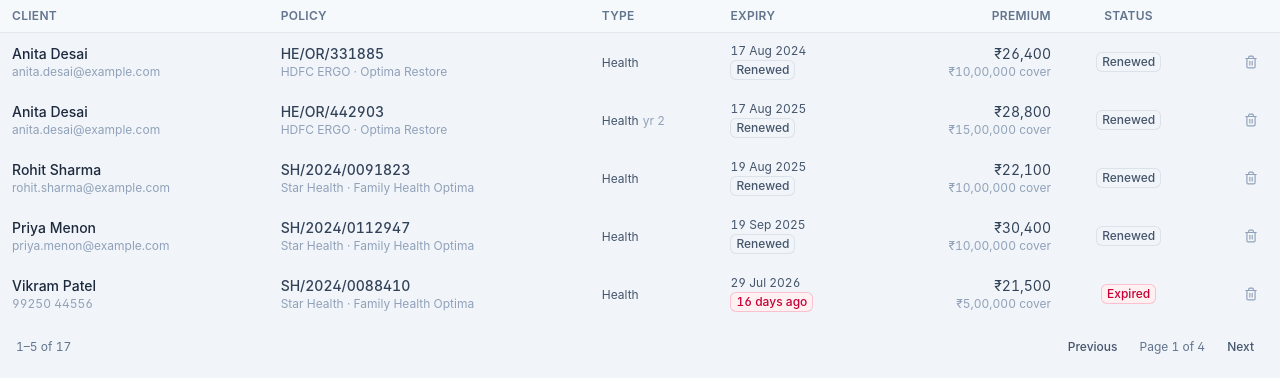
Test: PolicyTable › paging › asks for the next page
The image size is (1280, 378).
What coordinates should you click on to do the following:
click the button "Next"
I would click on:
 (1241, 347)
Its box is [1217,333,1264,361].
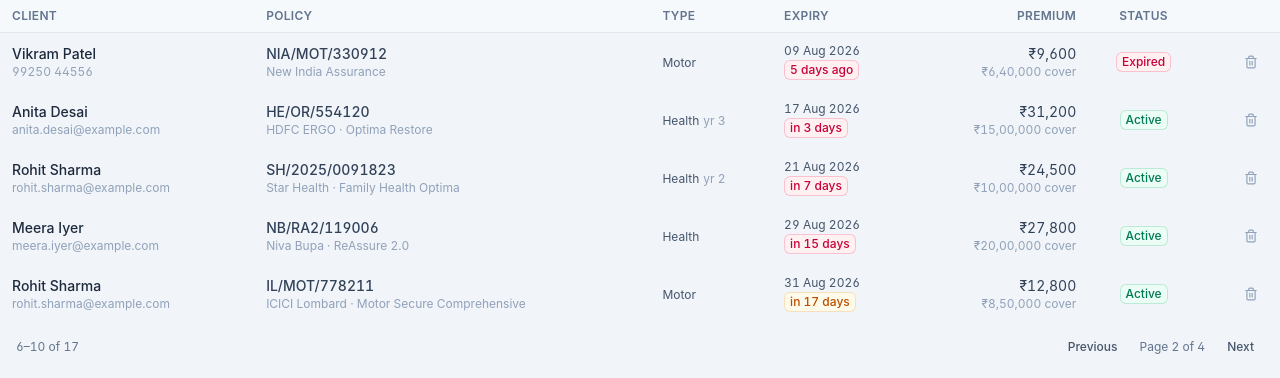
Expected: the text "6–10 of 17" is shown, [16,339,79,355]
